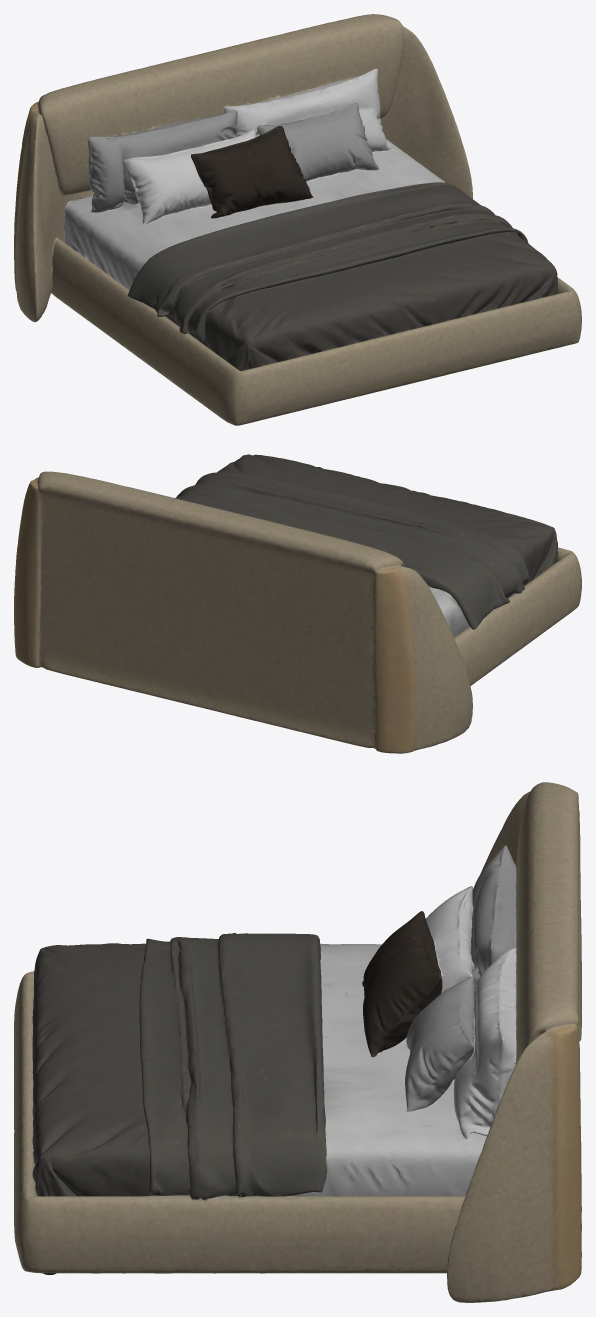
The model's file is modern_upholstered_platform_bed_anjq6e.glb.
The picture shows the model from 3 angles, top to bottom: view 1: azimuth 30°, elevation 25°; view 2: azimuth 150°, elevation 25°; view 3: azimuth 270°, elevation 25°; orthographic projection. The views are drawn at different scales.
Visible parts, largest first — view 1: world; view 2: world; view 3: world.
Boxes of the visible parts, x1,y1,x2,y2 form: world: (14, 14, 581, 425); world: (14, 454, 581, 753); world: (14, 782, 581, 1302).
Bounding box in the file's own units: 1 × 0.425 × 0.8097.
1 material, 1 textured.
